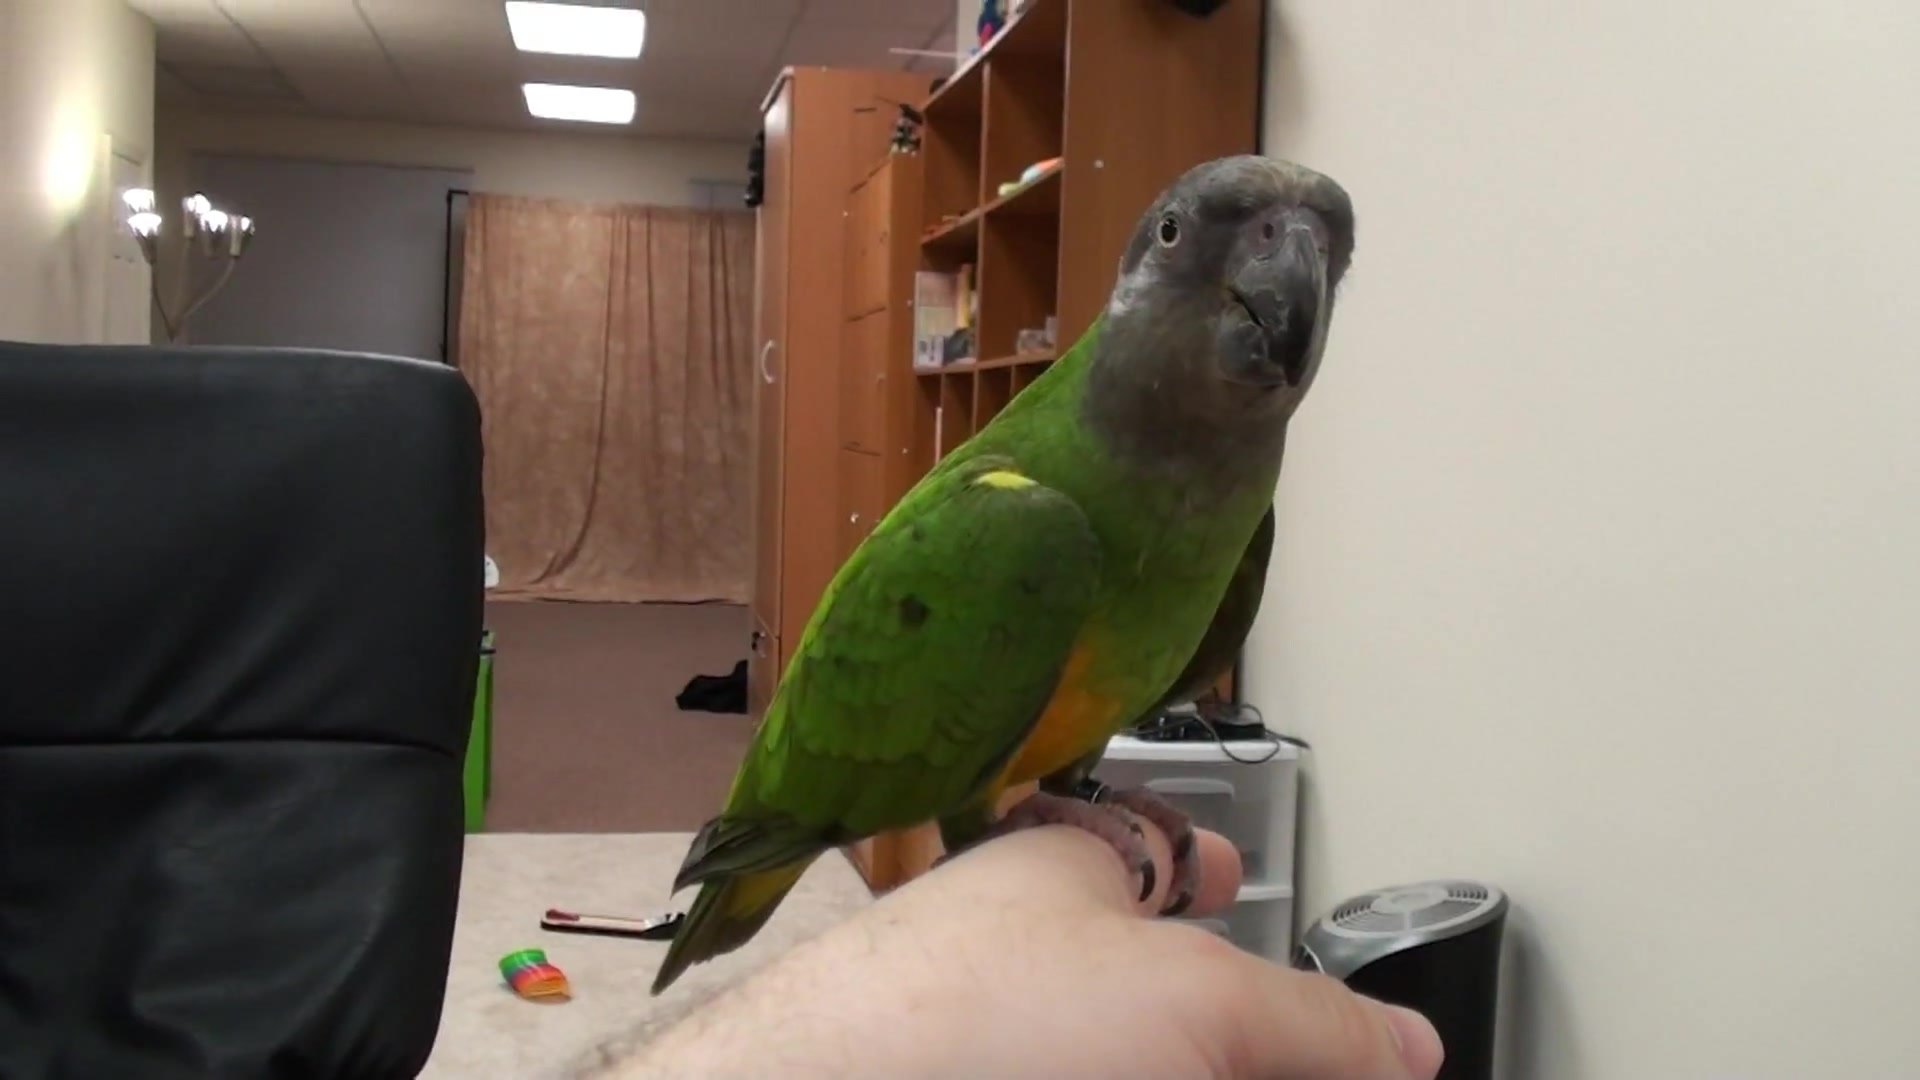bird: (651, 154, 1360, 1000)
